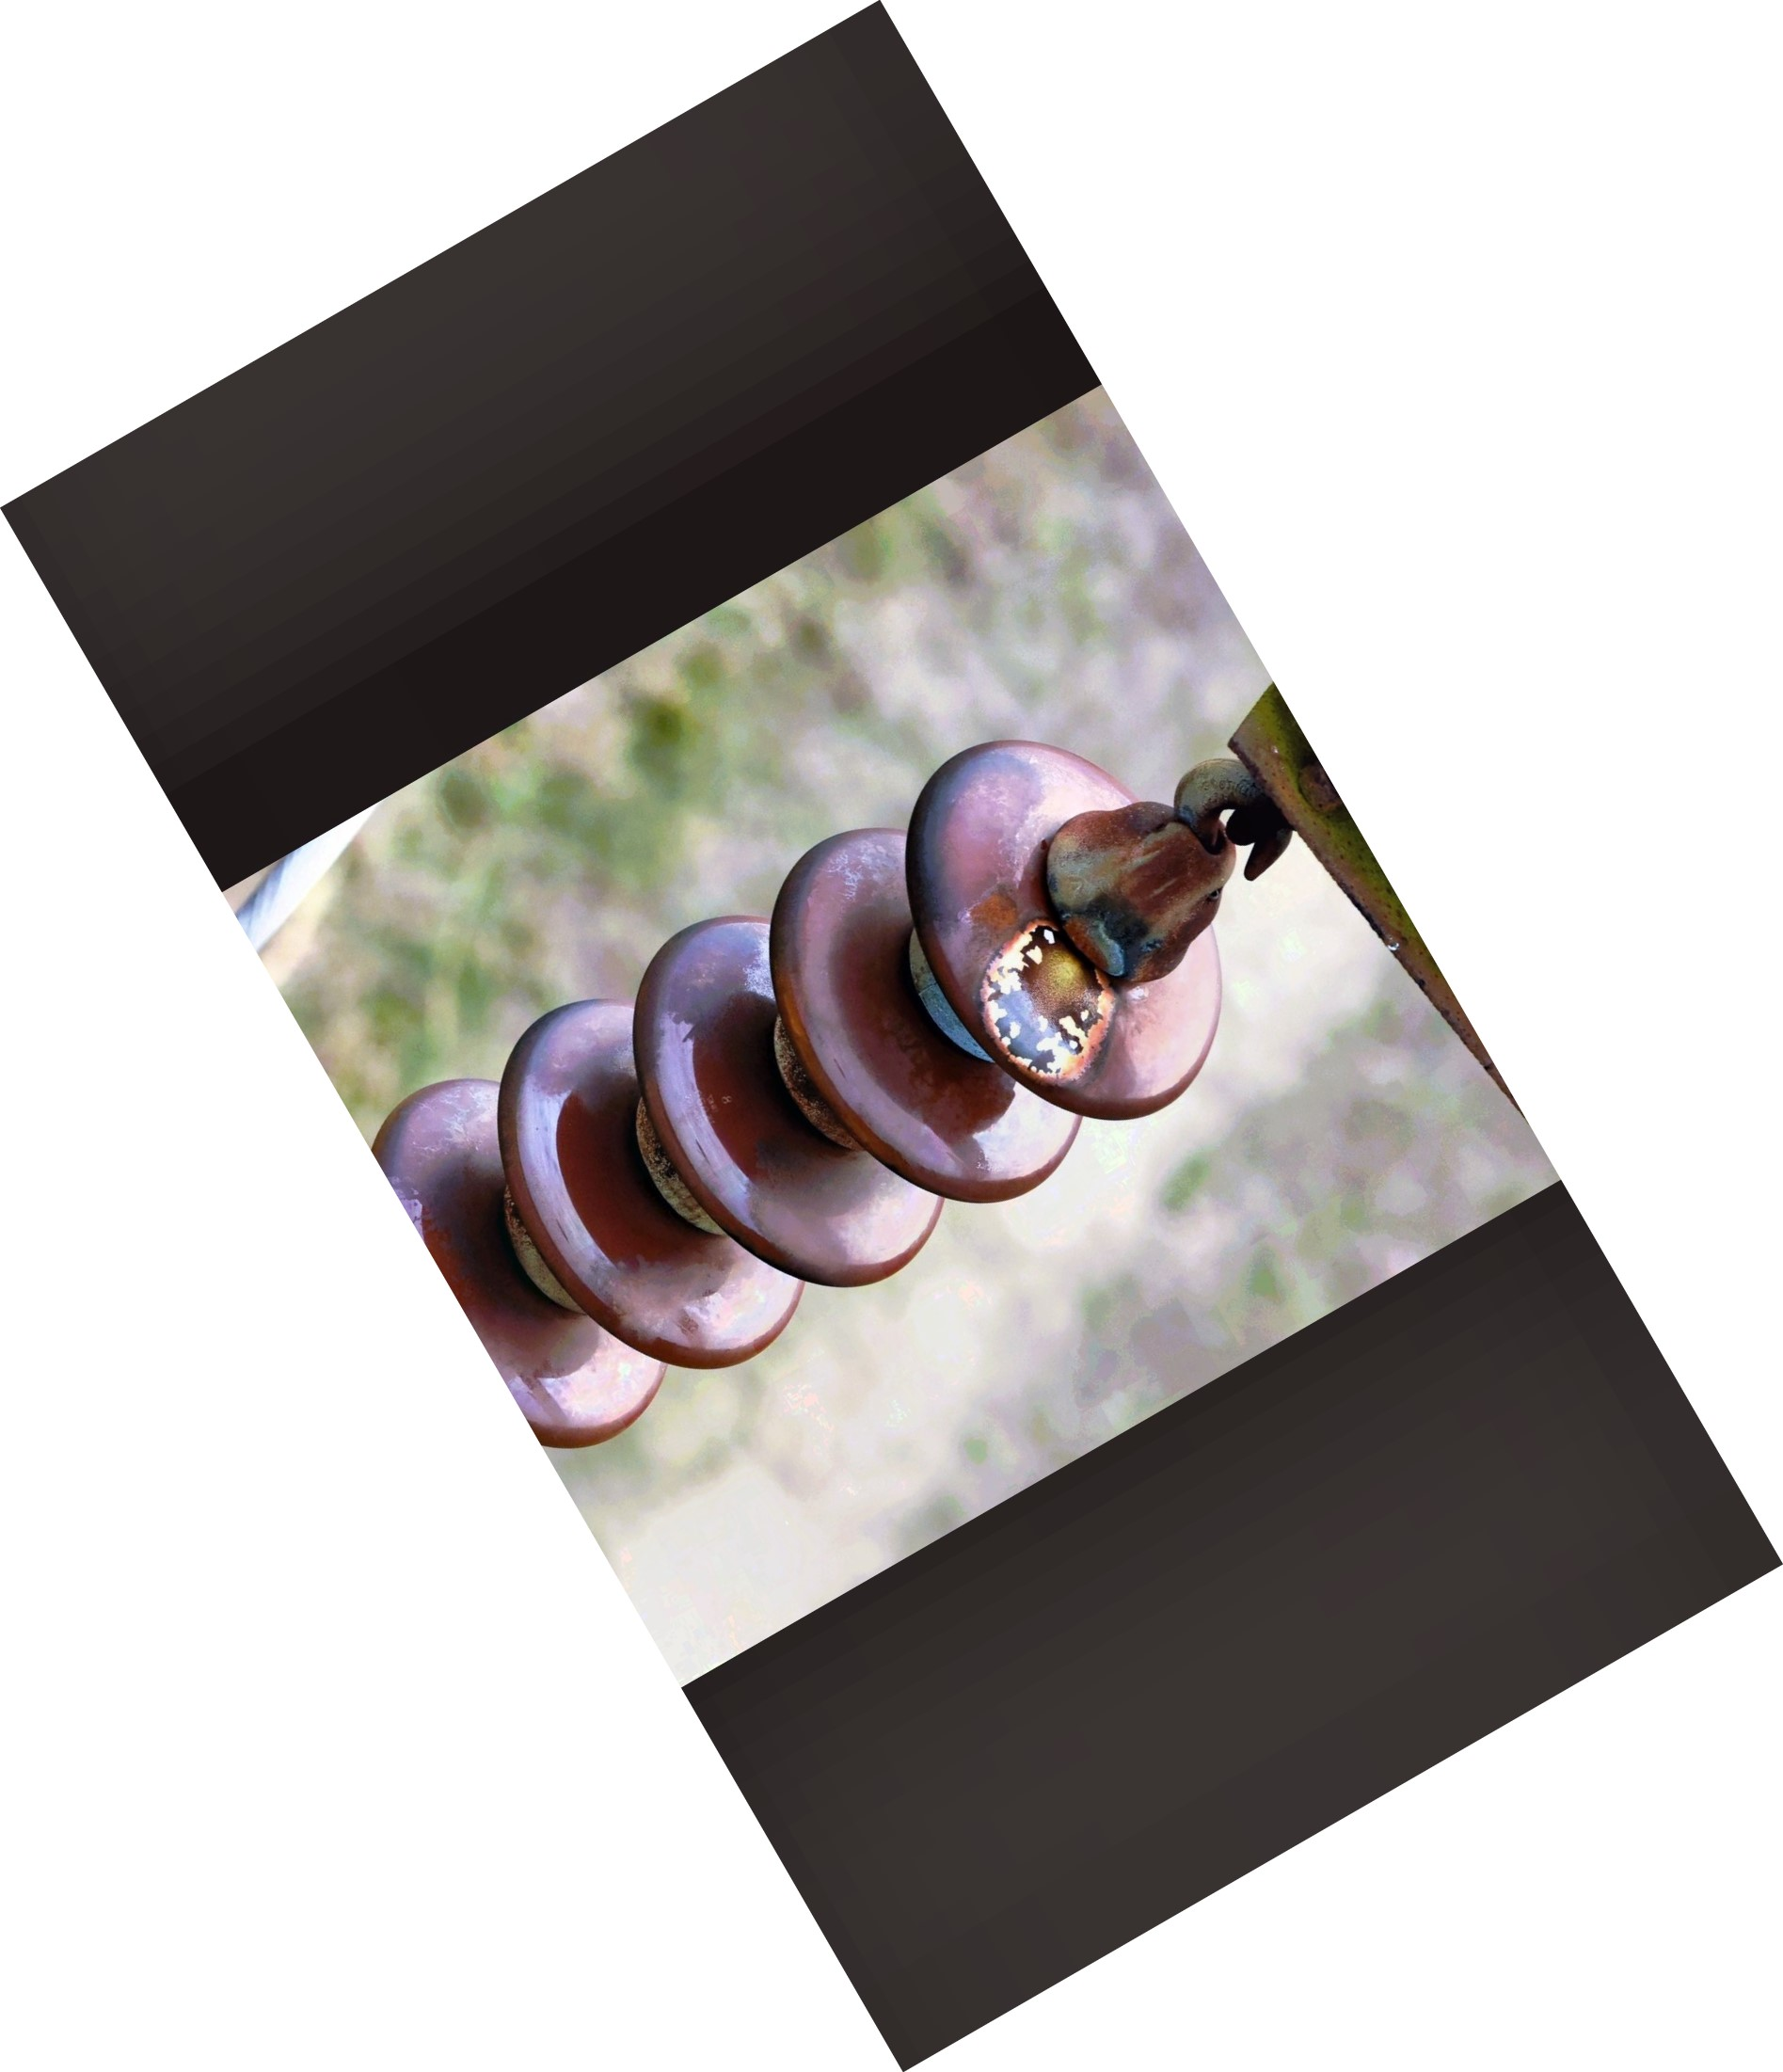Insulator flashover: (895, 707, 1249, 1145)
